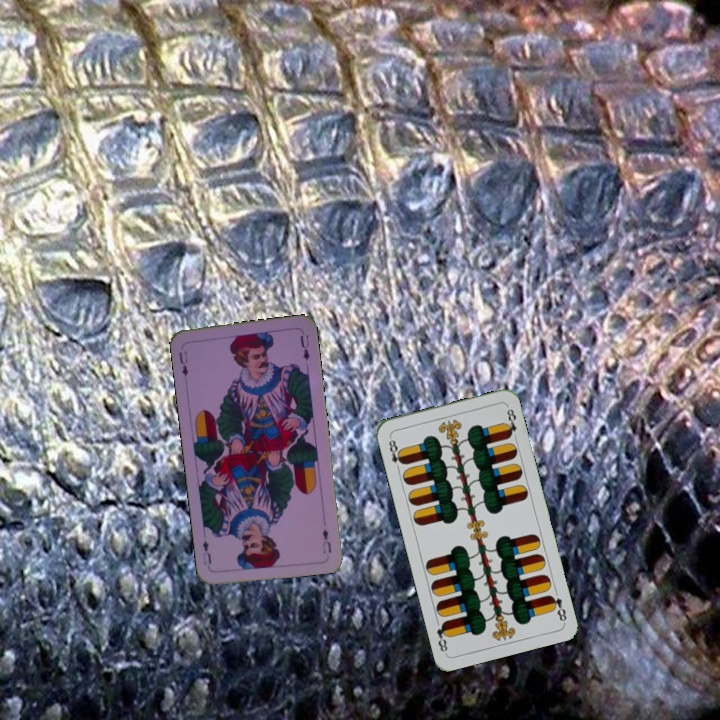E8: (384, 433, 407, 473), (545, 591, 569, 624)
EU: (175, 347, 191, 379), (318, 524, 334, 556)
